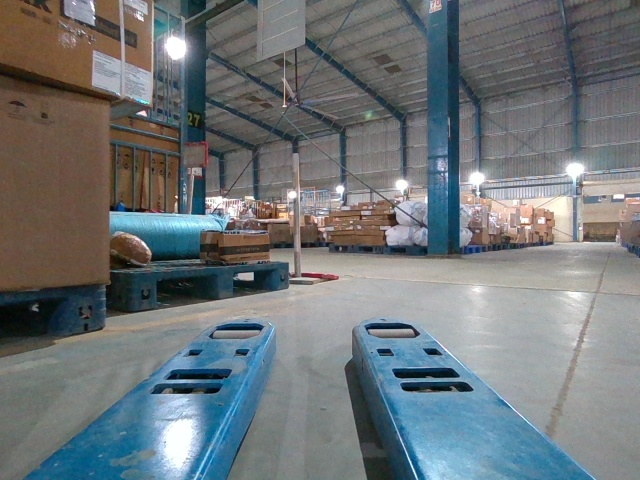block: (65, 284, 108, 342), (131, 270, 160, 310), (215, 267, 235, 300), (272, 262, 291, 289)
front: (131, 261, 288, 309)
hole pallet: (4, 294, 68, 348), (155, 273, 217, 304), (229, 267, 275, 296)
